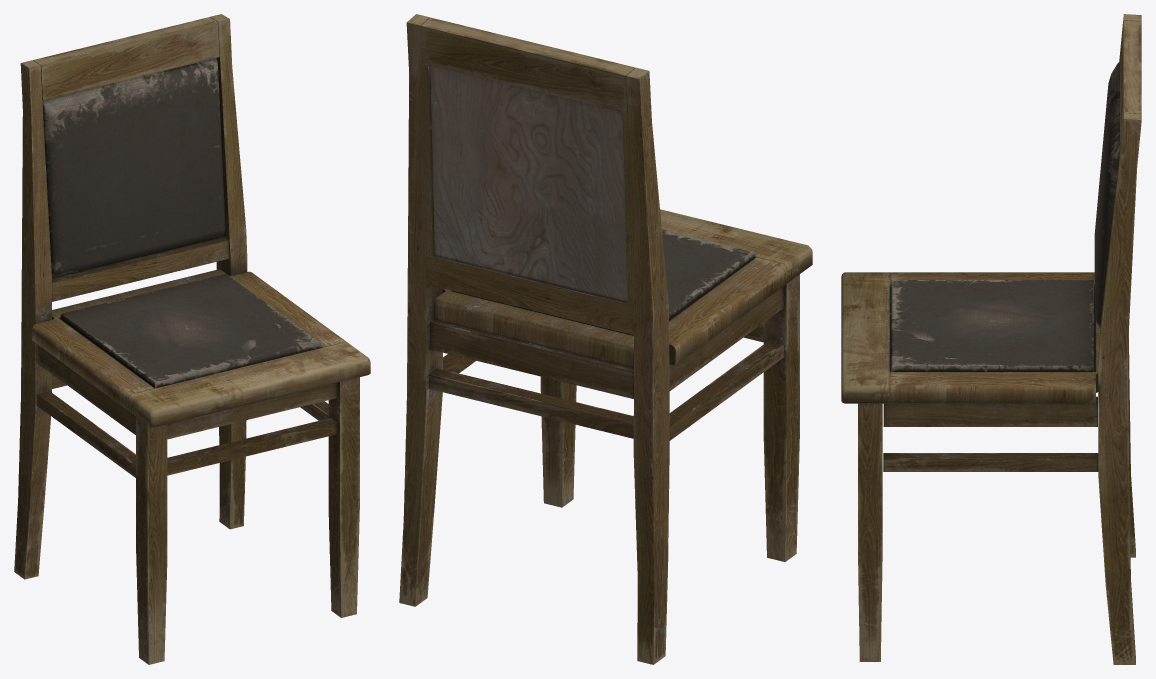
The model's file is old_chair (2).glb.
The picture shows the model from 3 angles, left to right: view 1: azimuth 30°, elevation 25°; view 2: azimuth 150°, elevation 25°; view 3: azimuth 270°, elevation 25°; orthographic projection. The views are drawn at different scales.
Visible parts, largest first — view 1: Object_2; view 2: Object_2; view 3: Object_2.
Part boxes in pixels (bbox=[...]): Object_2: bbox=[14, 14, 370, 664]; Object_2: bbox=[399, 14, 812, 664]; Object_2: bbox=[841, 14, 1141, 664].
Bounding box in the file's own units: 60.7 × 133 × 66.83.
1 material, 1 textured.
